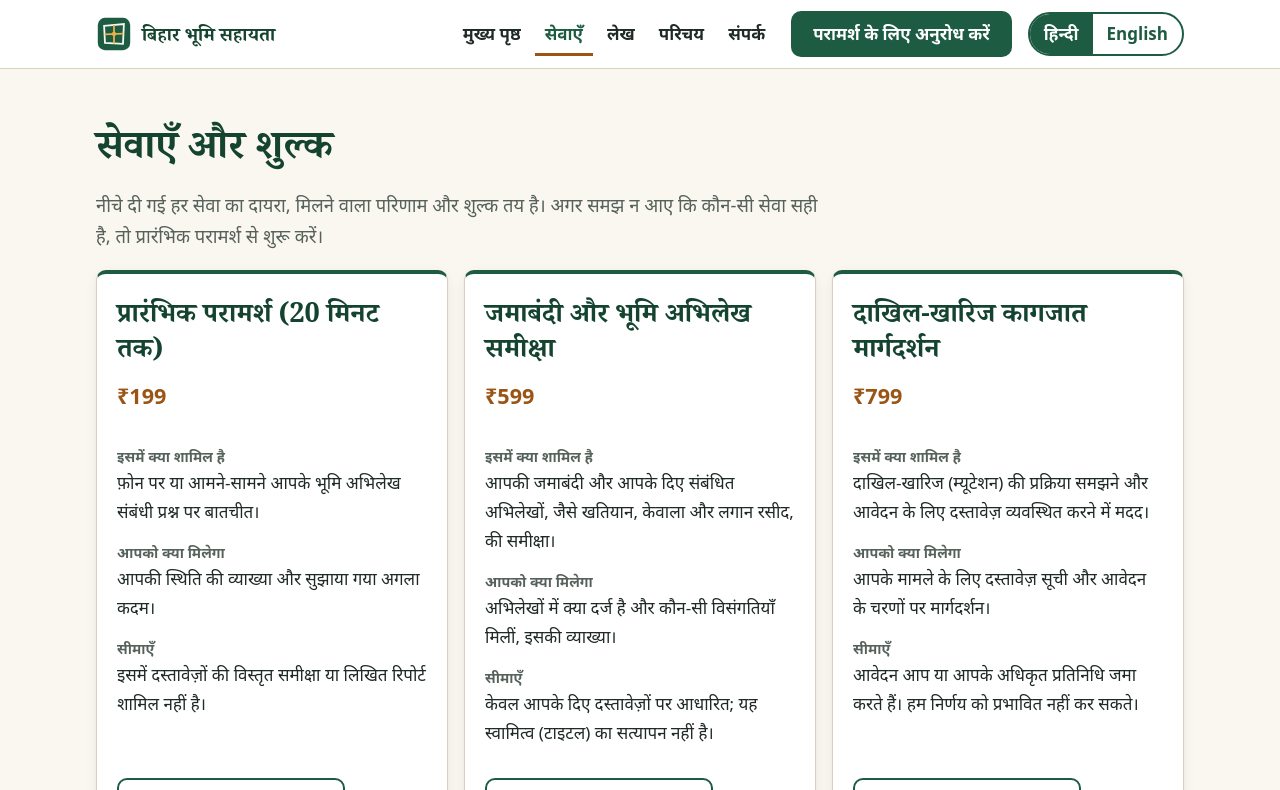
Scenario: language behaviour › header switcher keeps the same page, updates text, lang attribute and storage
Check: the heading "सेवाएँ और शुल्क" is shown, box [96,115,333,170]
Click the link "English".
click(1137, 33)  # box [1106,22,1168,44]
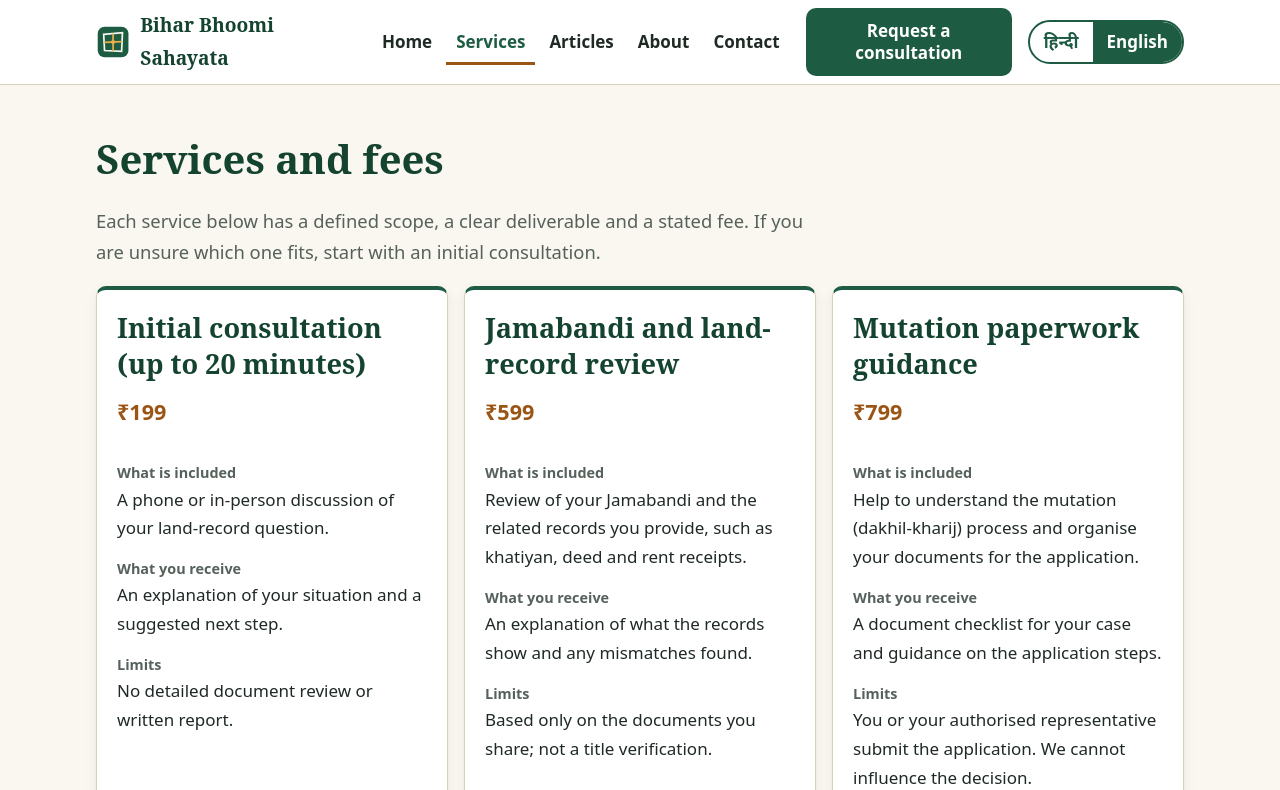
Check: the heading "Services and fees" is shown, box [96,131,444,186]
Check: the navigation bar named "Main navigation" shows "Services", box [446,20,535,64]
